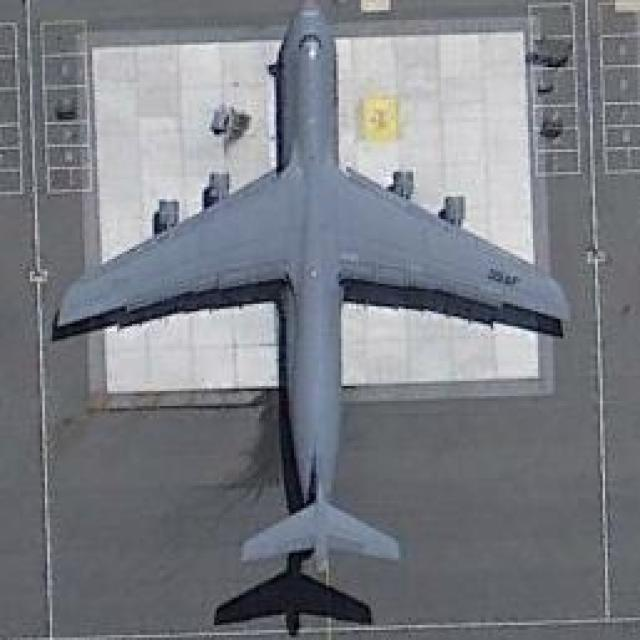C-5_TopDown: (48, 0, 570, 635)
